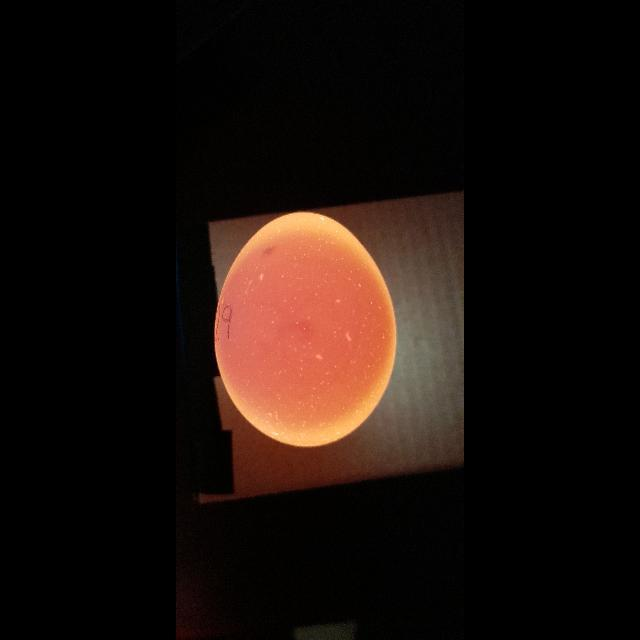A - Good: (210, 208, 400, 452)
